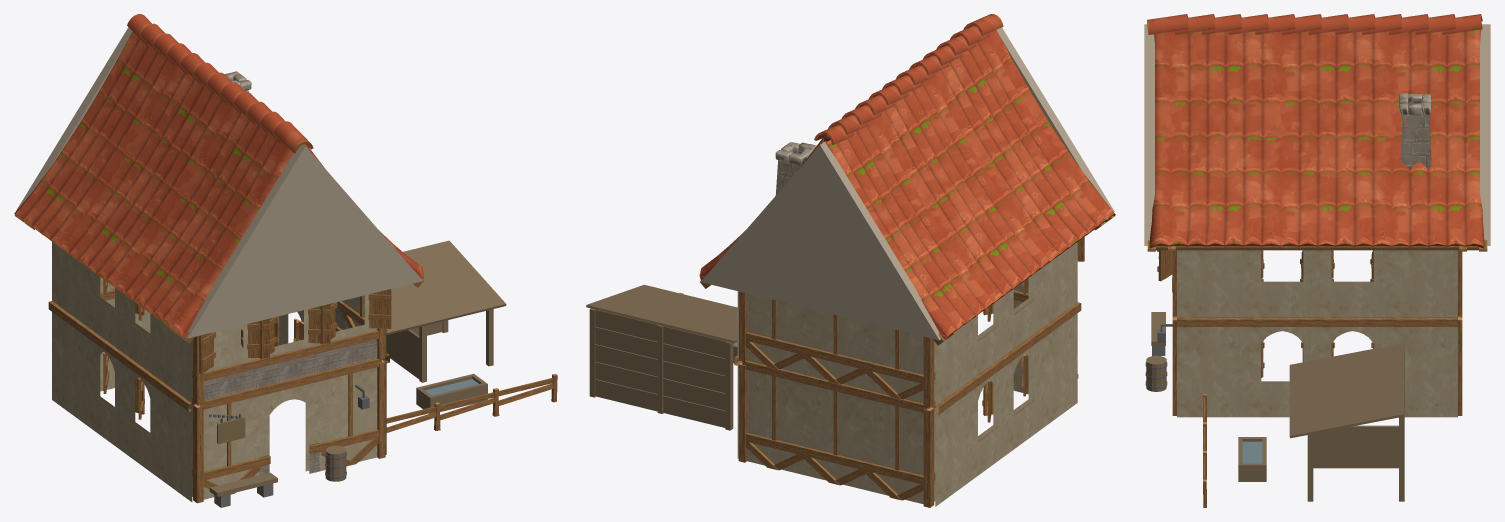
Rendered from town_inn_t2.glb.
3 views of the same model, side by side, from view 1: azimuth 30°, elevation 25°; view 2: azimuth 150°, elevation 25°; view 3: azimuth 270°, elevation 25° (orthographic).
Parts seen in each view (by area): view 1: Roof_RoundTiles_6x8_inst, gable, Wall_Plaster_Straight_inst.003, Wall_Plaster_Straight_inst, Wall_Plaster_Straight_inst.005, Wall_Plaster_Straight_inst.007, Wall_Plaster_Door_Round_inst, Wall_Plaster_Window_Wide_Round_inst, Wall_Plaster_Window_Wide_Round_inst.002, Wall_Plaster_Window_Wide_Round_inst.005, Wall_Plaster_Window_Wide_Round_inst.006, Wall_Plaster_Straight_inst.012 (+23 smaller); view 2: Roof_RoundTiles_6x8_inst, gable.001, Wall_Plaster_Straight_inst.002, Wall_Plaster_Straight_inst.004, Wall_Plaster_Straight_inst.001, Wall_Plaster_Straight_inst.010, Wall_Plaster_Straight_inst.011, Wall_Plaster_Straight_inst.009, Wall_Plaster_Straight_inst.007, Wall_Plaster_Straight_inst.005, Wall_Plaster_Window_Wide_Round_inst, Wall_Plaster_Window_Wide_Round_inst.002 (+24 smaller); view 3: Roof_RoundTiles_6x8_inst, Wall_Plaster_Straight_inst.006, Wall_Plaster_Straight_inst.008, Wall_Plaster_Straight_inst.013, Wall_Plaster_Straight_inst.015, Wall_Plaster_Window_Wide_Round_inst.001, stable_divide, Wall_Plaster_Window_Wide_Round_inst.008, Wall_Plaster_Window_Wide_Round_inst.010, gable.001, gable, Prop_Chimney_inst (+17 smaller).
Part boxes in pixels (x1,y1,x2,y2): Roof_RoundTiles_6x8_inst: (14, 14, 423, 343); gable: (186, 144, 422, 338); Wall_Plaster_Straight_inst.003: (316, 358, 381, 471); Wall_Plaster_Straight_inst: (198, 387, 260, 499); Wall_Plaster_Straight_inst.005: (153, 378, 198, 502); Wall_Plaster_Straight_inst.007: (48, 301, 86, 424); Wall_Plaster_Door_Round_inst: (256, 372, 321, 475); Wall_Plaster_Window_Wide_Round_inst: (118, 352, 157, 476); Wall_Plaster_Window_Wide_Round_inst.002: (83, 326, 121, 450); Wall_Plaster_Window_Wide_Round_inst.005: (259, 309, 321, 386); Wall_Plaster_Window_Wide_Round_inst.006: (319, 294, 378, 371); Wall_Plaster_Straight_inst.012: (157, 319, 192, 402); Roof_RoundTiles_6x8_inst: (699, 14, 1115, 345); gable.001: (701, 141, 940, 340); Wall_Plaster_Straight_inst.002: (804, 375, 872, 490); Wall_Plaster_Straight_inst.004: (742, 360, 809, 475); Wall_Plaster_Straight_inst.001: (865, 390, 928, 504); Wall_Plaster_Straight_inst.010: (804, 308, 867, 389); Wall_Plaster_Straight_inst.011: (745, 293, 805, 374); Wall_Plaster_Straight_inst.009: (865, 323, 923, 403); Wall_Plaster_Straight_inst.007: (929, 380, 974, 506); Wall_Plaster_Straight_inst.005: (1036, 302, 1081, 428); Wall_Plaster_Window_Wide_Round_inst: (1002, 328, 1045, 454); Wall_Plaster_Window_Wide_Round_inst.002: (965, 354, 1009, 480); Roof_RoundTiles_6x8_inst: (1147, 14, 1487, 251); Wall_Plaster_Straight_inst.006: (1177, 317, 1247, 417); Wall_Plaster_Straight_inst.008: (1387, 317, 1457, 417); Wall_Plaster_Straight_inst.013: (1177, 250, 1247, 317); Wall_Plaster_Straight_inst.015: (1387, 250, 1457, 317); Wall_Plaster_Window_Wide_Round_inst.001: (1247, 317, 1317, 417); stable_divide: (1313, 425, 1398, 468); Wall_Plaster_Window_Wide_Round_inst.008: (1247, 250, 1317, 317); Wall_Plaster_Window_Wide_Round_inst.010: (1317, 250, 1387, 317); gable.001: (1480, 24, 1490, 245); gable: (1144, 24, 1154, 245); Prop_Chimney_inst: (1399, 93, 1431, 168).
Bounding box in the file's own units: 13.39 × 11.16 × 9.85.
Materials: 28 (15 with a texture image).
